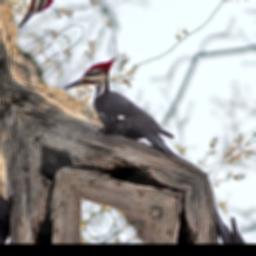Woodpecker: (61, 50, 186, 189)
